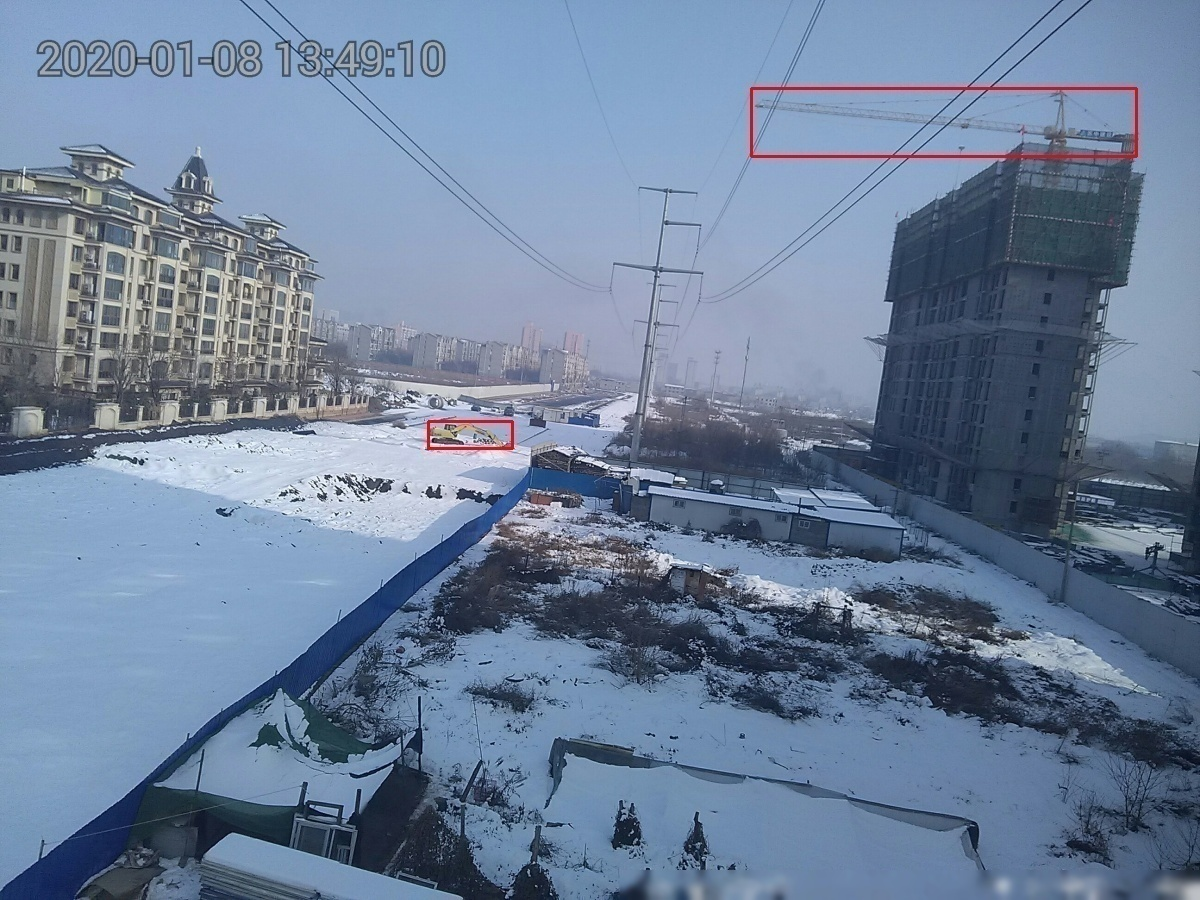tadiao: (746, 89, 1137, 156), (429, 418, 514, 450)
